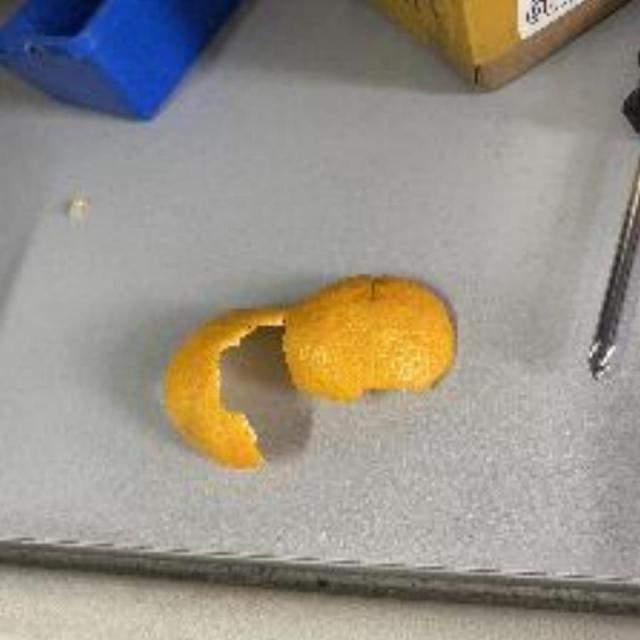orange peel: (160, 270, 468, 472)
